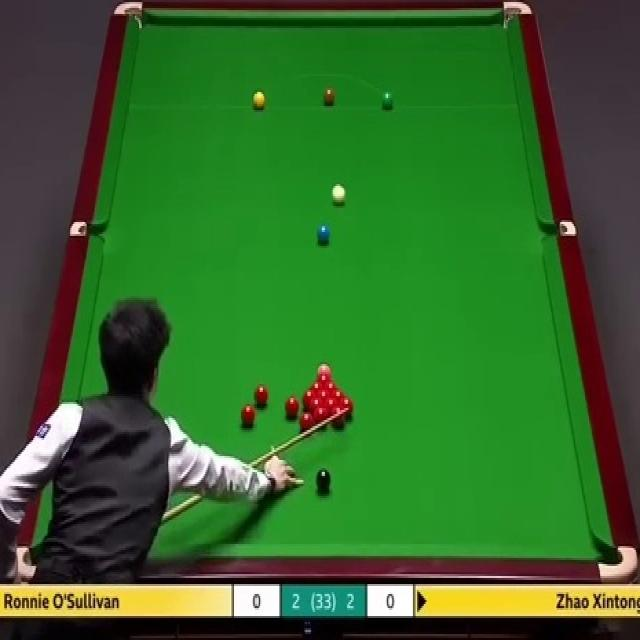black-ball: (316, 468, 331, 492)
blue-ball: (316, 225, 331, 242)
brown-ball: (323, 88, 335, 107)
green-ball: (380, 88, 395, 110)
pink-ball: (317, 364, 332, 378)
red-ball: (298, 410, 316, 433), (329, 407, 347, 428), (240, 404, 256, 426), (316, 405, 331, 427), (253, 385, 269, 405), (337, 397, 352, 418), (285, 397, 299, 417), (325, 398, 338, 419), (304, 389, 315, 401), (318, 390, 329, 402), (318, 375, 328, 387)
white-ball: (331, 183, 348, 206)
yellow-ball: (253, 90, 265, 110)
